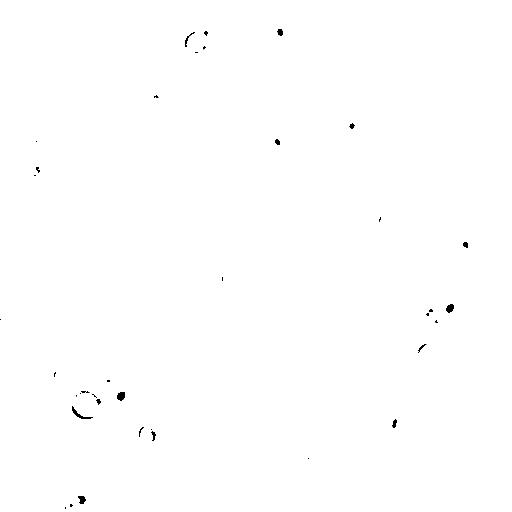micro-algae: (37, 193, 113, 273), (41, 18, 103, 80), (301, 429, 355, 489), (368, 385, 417, 442), (335, 480, 406, 511), (304, 278, 349, 323), (103, 19, 147, 64), (409, 327, 451, 367), (281, 125, 319, 162), (277, 185, 307, 224), (75, 261, 110, 294), (105, 322, 139, 355), (101, 383, 138, 413), (489, 438, 511, 486), (203, 24, 235, 56), (435, 288, 465, 321), (71, 389, 103, 419), (341, 81, 375, 108), (102, 243, 136, 270), (208, 158, 235, 191), (378, 406, 405, 439), (177, 495, 230, 511), (263, 15, 292, 43), (450, 227, 476, 258), (405, 158, 429, 191), (235, 16, 267, 39), (262, 125, 287, 154), (131, 361, 155, 391), (181, 27, 208, 53), (73, 77, 98, 105), (301, 169, 327, 194), (340, 111, 364, 137), (99, 367, 123, 393), (481, 305, 509, 327), (291, 455, 319, 477), (32, 63, 55, 89), (497, 350, 512, 389), (239, 489, 269, 508), (221, 261, 244, 285), (456, 381, 477, 406), (52, 363, 72, 389), (137, 421, 157, 447), (377, 209, 396, 234), (55, 501, 102, 511), (419, 0, 455, 13), (64, 492, 88, 511), (204, 282, 221, 308), (10, 69, 29, 92), (18, 131, 41, 149), (418, 343, 441, 361), (420, 307, 440, 327), (26, 163, 43, 179), (127, 303, 143, 320), (104, 487, 119, 503)
